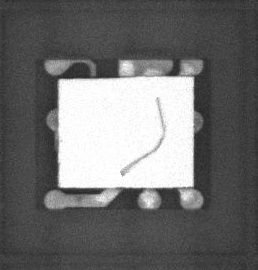DIE_INK: (115, 100, 160, 184)
